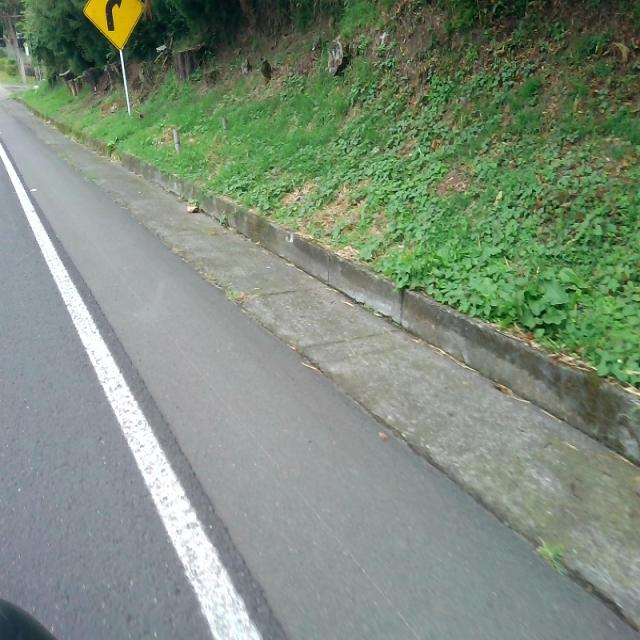DITCH: (1, 66, 638, 638), (2, 92, 638, 638)
